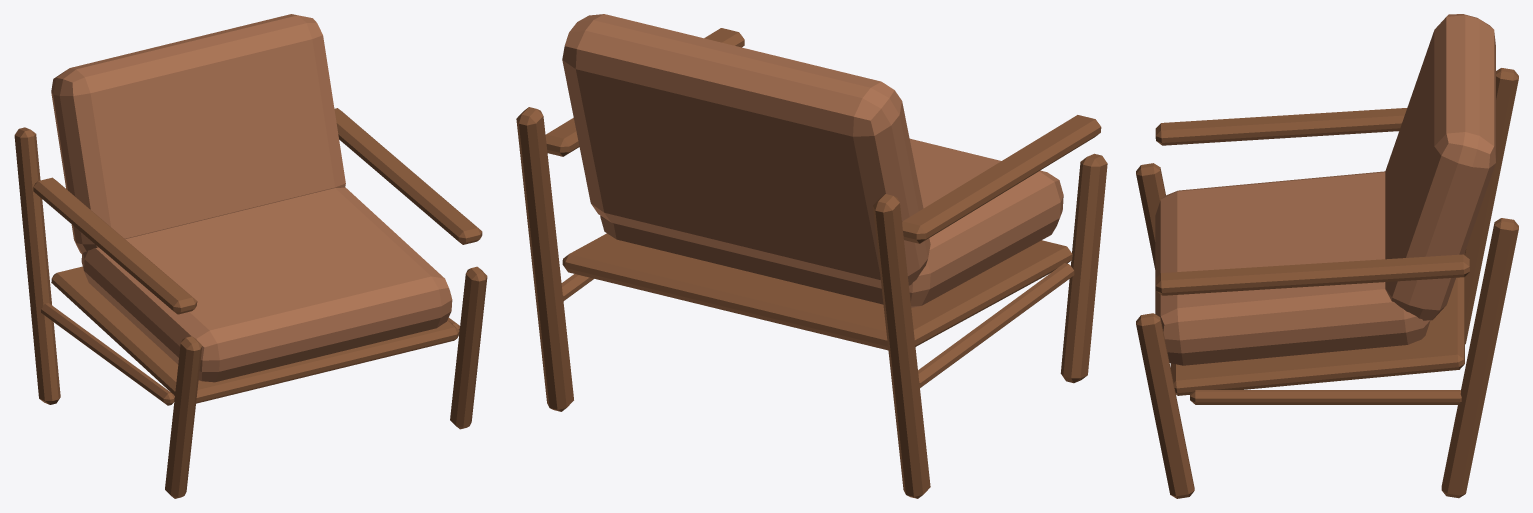
The model's file is lounge_chair.glb.
3 views of the same model, side by side, from view 1: azimuth 30°, elevation 25°; view 2: azimuth 150°, elevation 25°; view 3: azimuth 270°, elevation 25° (orthographic). The views are drawn at different scales.
Parts seen in each view (by area): view 1: lounge_chair_Body; view 2: lounge_chair_Body; view 3: lounge_chair_Body.
Part boxes in pixels (<box>): lounge_chair_Body: <box>14,14,487,498</box>; lounge_chair_Body: <box>516,14,1107,498</box>; lounge_chair_Body: <box>1136,14,1518,498</box>.
Bounding box in the file's own units: 0.8 × 0.8 × 0.796.
